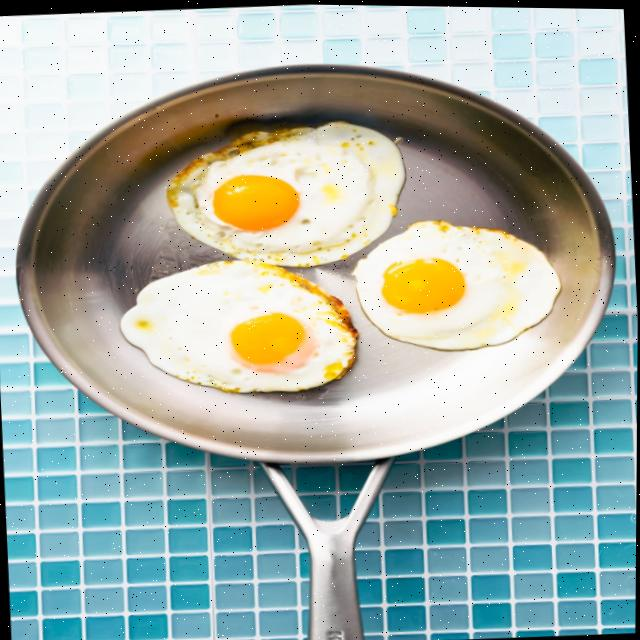Egg: (168, 120, 406, 266), (122, 259, 358, 392), (354, 219, 561, 350)
